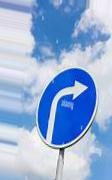right: (35, 68, 98, 149)
